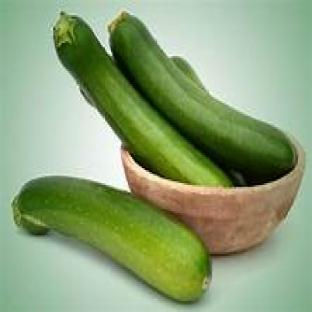Zucchini: (109, 14, 296, 183), (54, 14, 231, 186), (13, 176, 210, 300), (172, 57, 206, 91)
